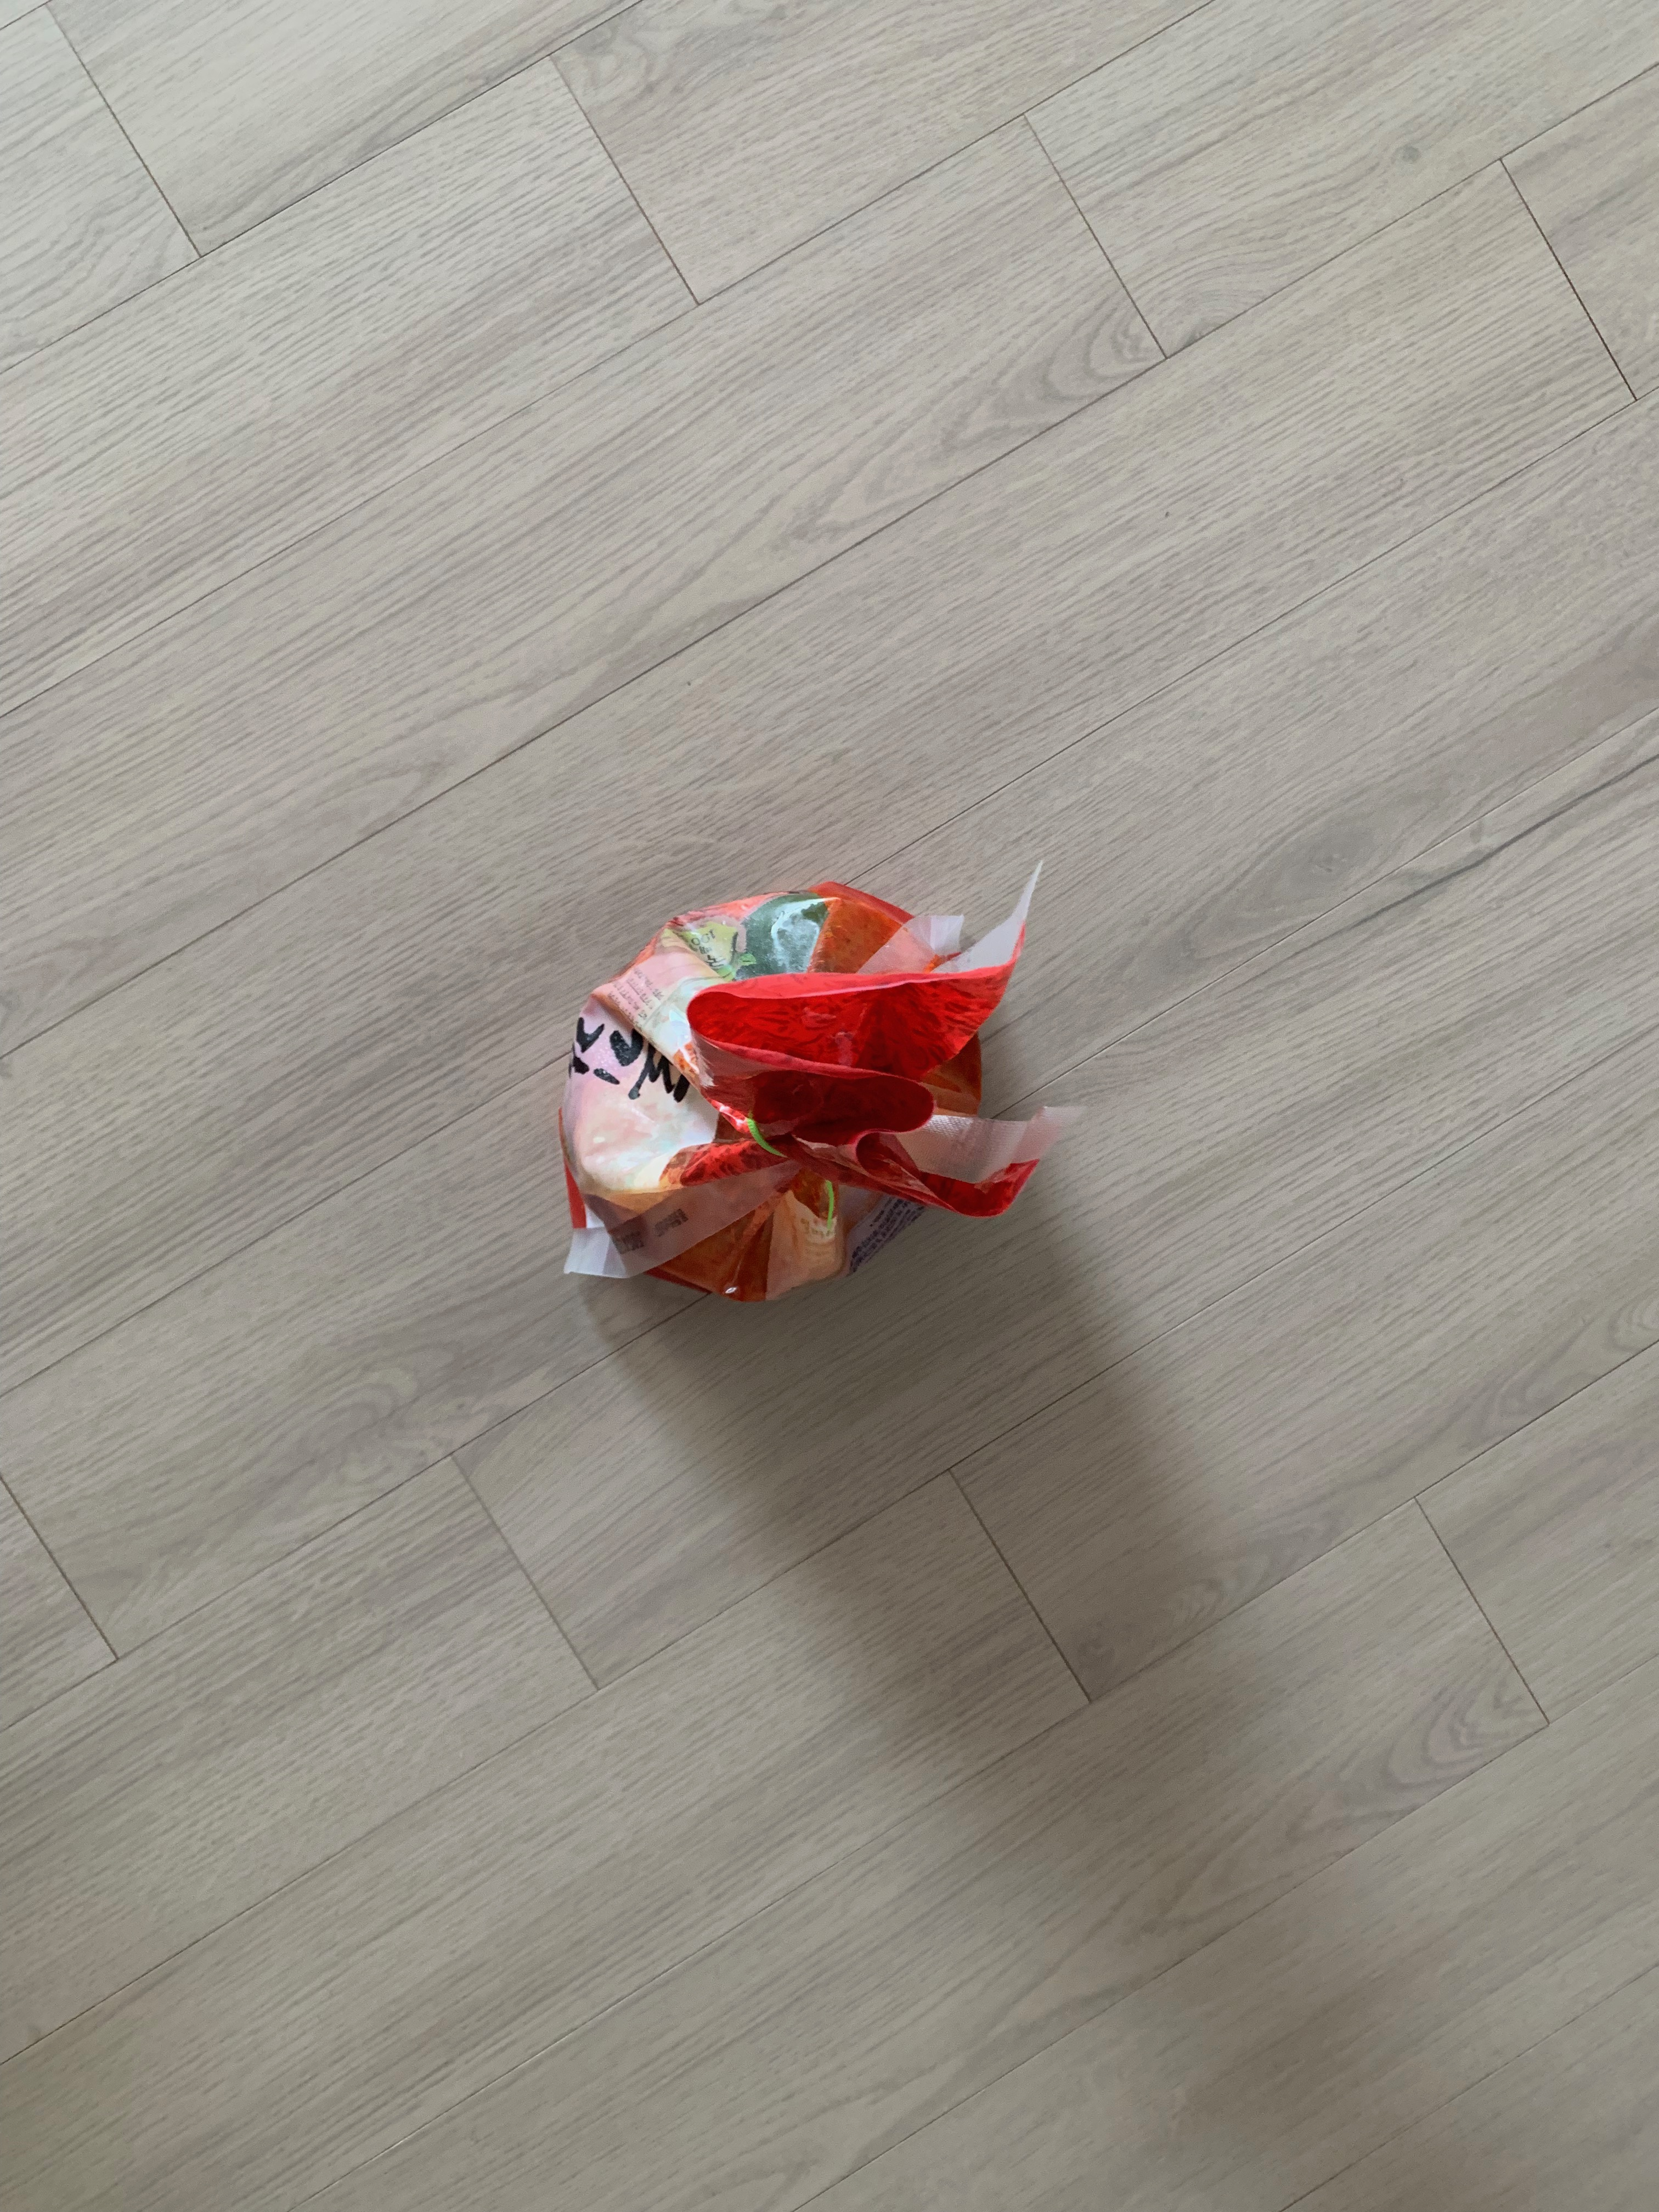kimchi: (561, 881, 1032, 1298)
